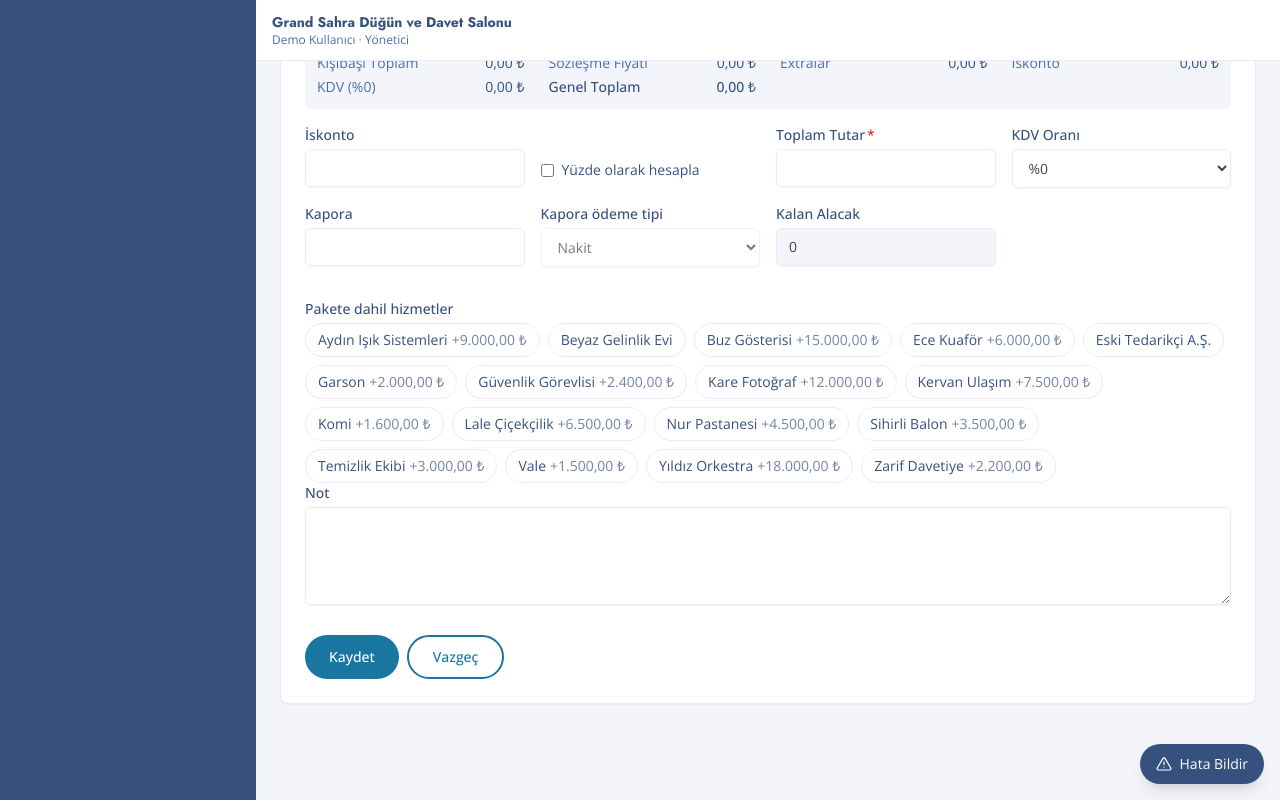
Yeni rezervasyon formu › zorunlu alanlar boşken kaydetmez
(page scrolled)
Click the button "Kaydet". click: (352, 657)
box: x1=305 y1=635 x2=399 y2=679
(page scrolled)
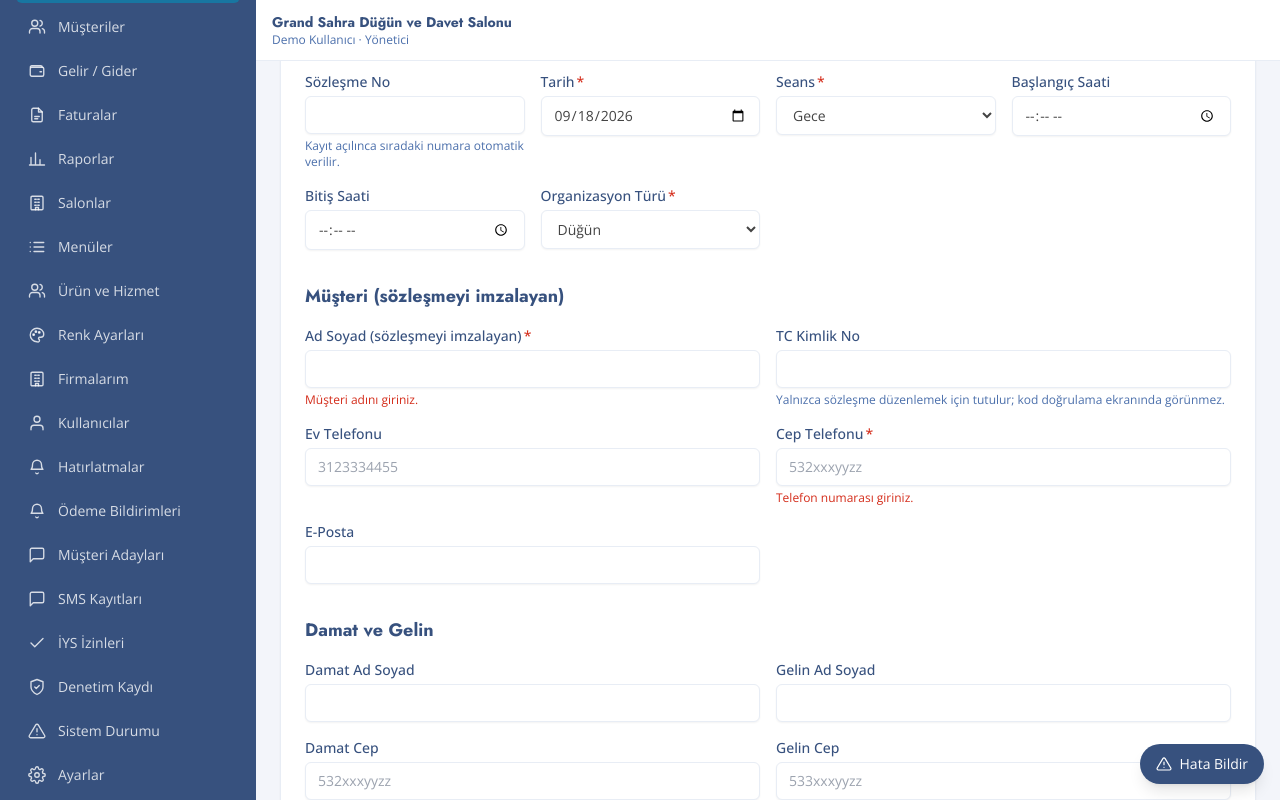
Expected: the text "Müşteri adını giriniz." is shown, x1=305 y1=391 x2=418 y2=408
